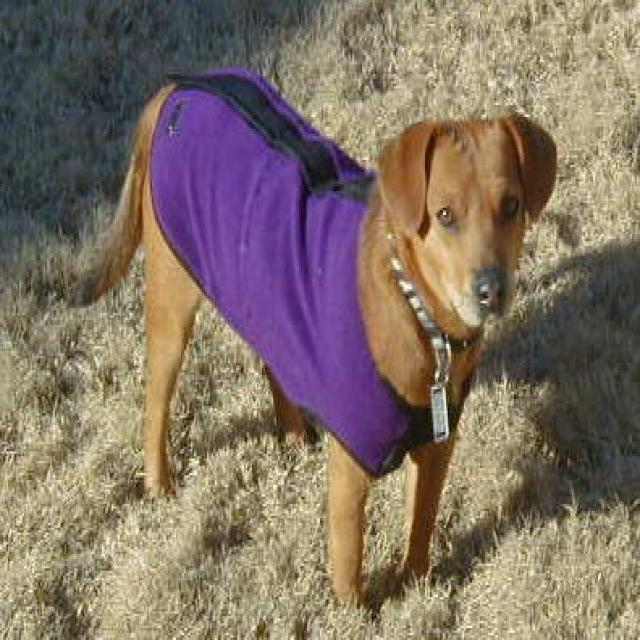Dogs: (66, 62, 558, 611)
